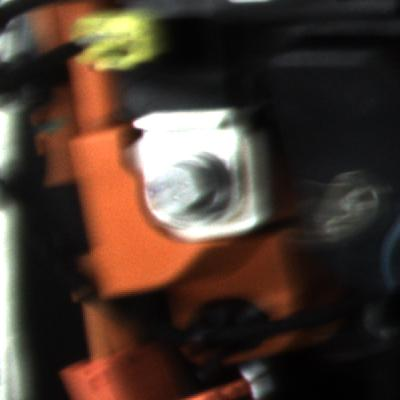nut_b: (145, 157, 239, 227)
